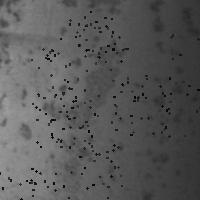pitted_surface: (122, 40, 198, 198), (44, 20, 127, 130), (42, 124, 123, 191), (1, 1, 35, 152), (111, 75, 169, 135), (69, 11, 126, 70), (32, 86, 88, 146), (63, 140, 121, 197), (43, 93, 98, 153), (31, 29, 84, 89), (152, 83, 200, 135), (170, 23, 200, 83), (0, 168, 55, 200), (0, 170, 45, 200)
